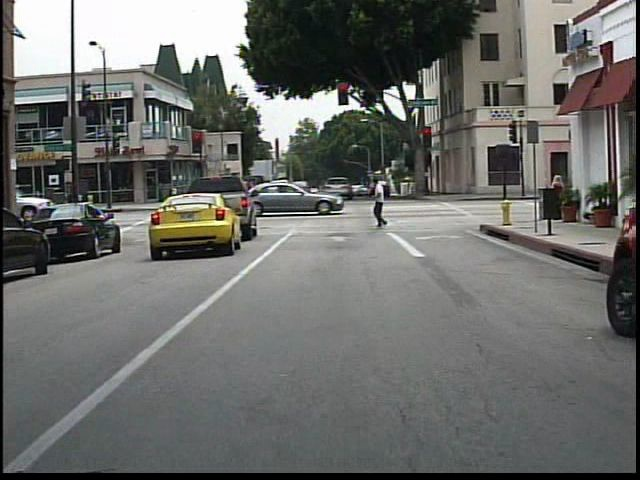person: (371, 179, 397, 233), (546, 173, 570, 222)
